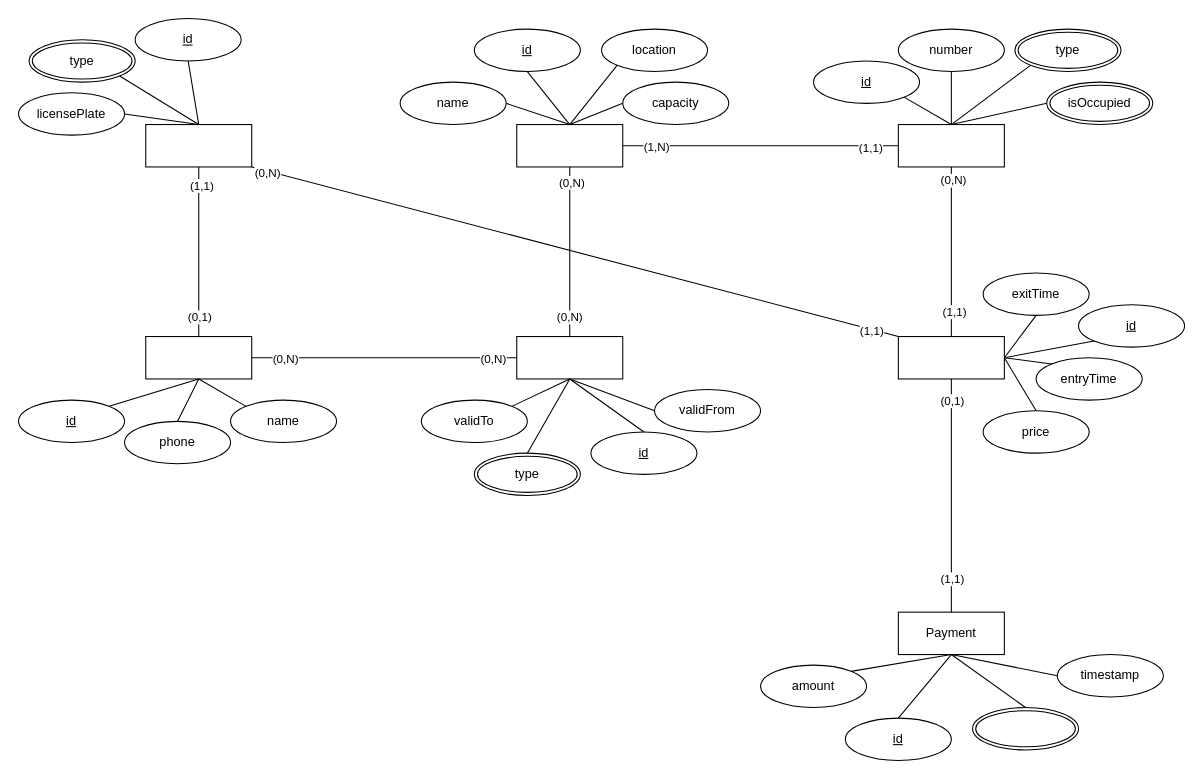
The diagram is 1203 pixels wide and 779 high, and some of its shapes have lost their labels. The shapes that lost their labels are listed below. From the top down, each one's box as (x1, y1, x2, y2) in pixels, then its label:
(145, 123, 252, 167): Vehicle
(516, 123, 623, 167): ParkingLot
(897, 123, 1004, 167): ParkingSpot
(145, 335, 252, 379): Driver
(516, 335, 623, 379): ParkingPass
(897, 335, 1004, 379): ParkingTicket
(971, 706, 1079, 750): method
